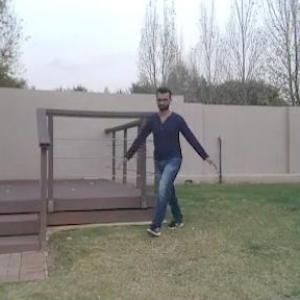land: (116, 78, 220, 257)
